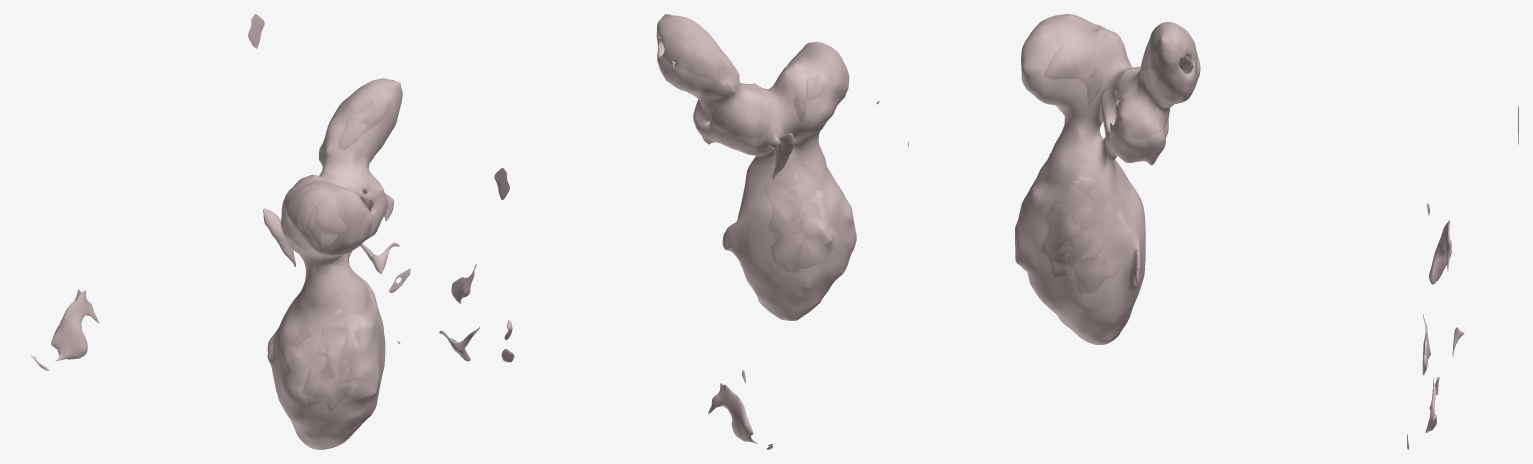
File: seg_4.obj
The picture shows the model from 3 angles, left to right: view 1: azimuth 30°, elevation 25°; view 2: azimuth 150°, elevation 25°; view 3: azimuth 270°, elevation 25°; orthographic projection. The views are drawn at different scales.
Visible parts, largest first — view 1: grp1; view 2: grp1; view 3: grp1.
Part boxes in pixels (x1,y1,x2,y2): grp1: [30, 14, 410, 449]; grp1: [439, 14, 879, 449]; grp1: [908, 14, 1518, 449].
Size of the model in its own units: 100 by 79.61 by 121.
